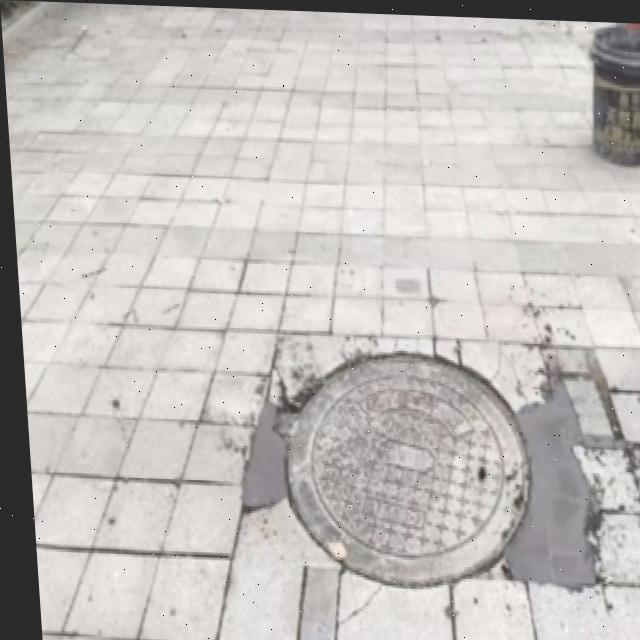manhole: (258, 325, 594, 596)
